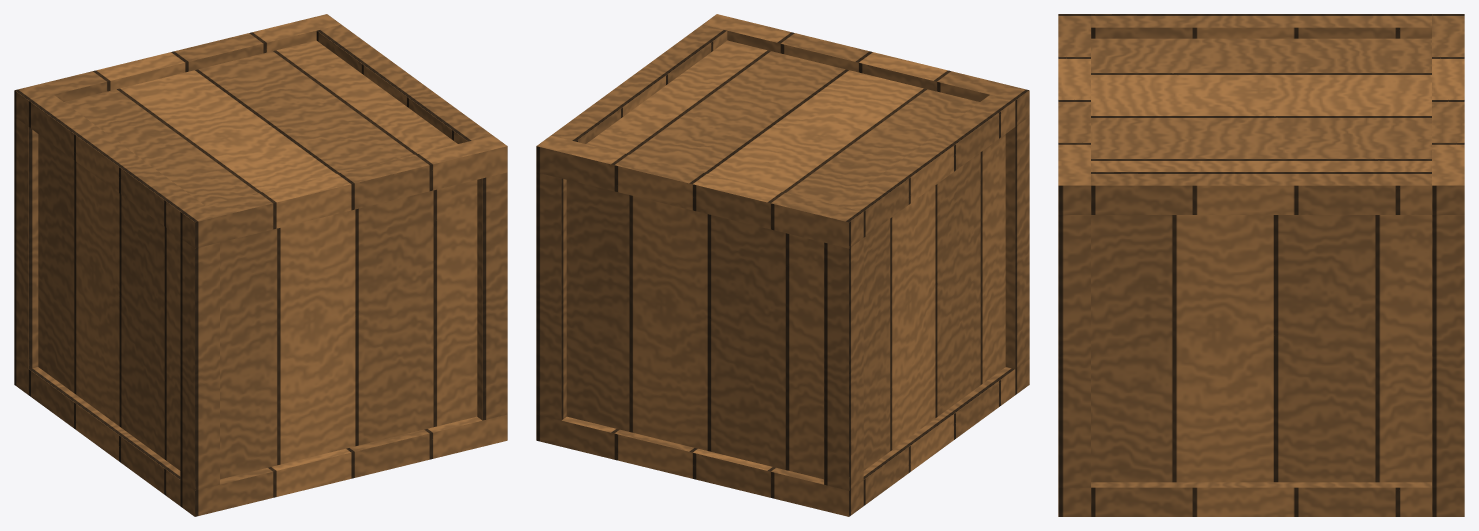
Rendered from Crate.fbx.
3 renders of one model, left to right at view 1: azimuth 30°, elevation 25°; view 2: azimuth 150°, elevation 25°; view 3: azimuth 270°, elevation 25°, orthographic. The views are drawn at different scales.
Parts seen in each view (by area): view 1: Crate; view 2: Crate; view 3: Crate.
Part boxes in pixels (x1,y1,x2,y2): Crate: (14,14,507,516); Crate: (536,14,1029,516); Crate: (1058,14,1464,516).
Size of the model in its own units: 1 by 0.9 by 1.
1 material, 1 textured.
